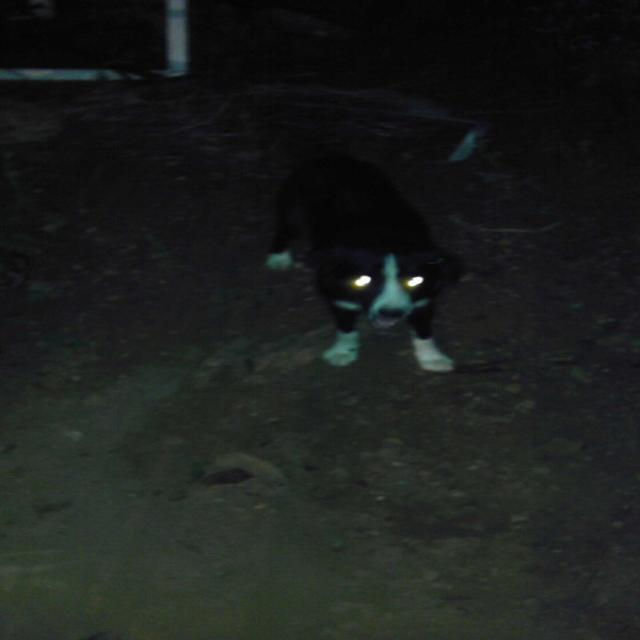Dog: (102, 212, 559, 404)
